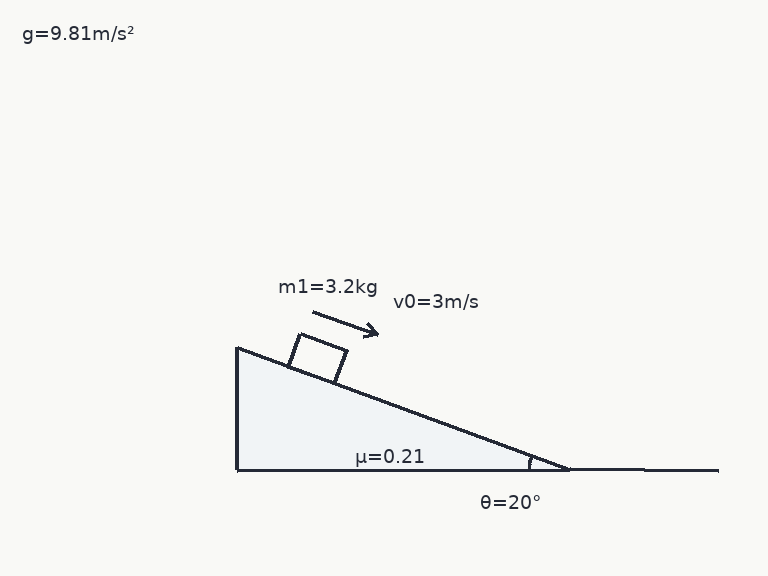block: (286, 331, 348, 385)
ramp: (235, 346, 571, 471)
